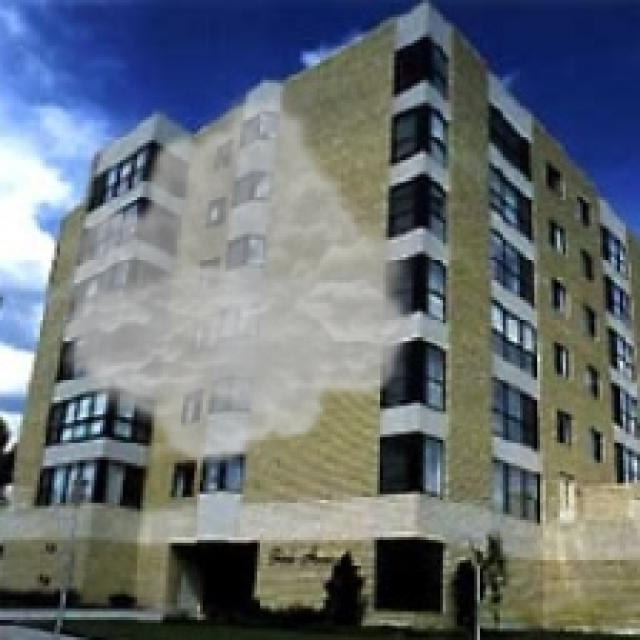smoke: (51, 89, 420, 468)
